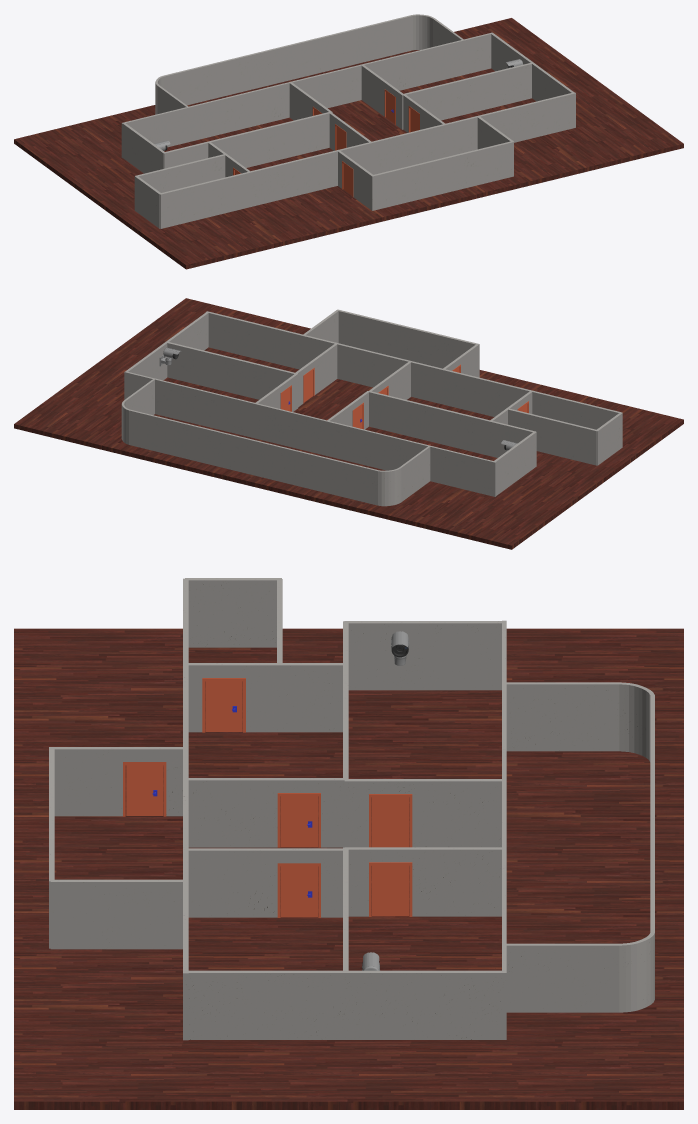
File: escenario.glb
The picture shows the model from 3 angles, top to bottom: view 1: azimuth 30°, elevation 25°; view 2: azimuth 150°, elevation 25°; view 3: azimuth 270°, elevation 25°; orthographic projection. The views are drawn at different scales.
Parts seen in each view (by area): view 1: Cube.018, Cube.021; view 2: Cube.018, Cube.021; view 3: Cube.021, Cube.018.
Boxes of the visible parts, x1,y1,x2,y2 form: Cube.018: (121,14,575,228); Cube.021: (14,18,683,269); Cube.018: (121,309,622,506); Cube.021: (14,298,683,549); Cube.021: (14,628,683,1109); Cube.018: (49,578,654,1040).
Size of the model in its own units: 28.18 by 2.11 by 16.87.
Materials: 9 (2 with a texture image).
